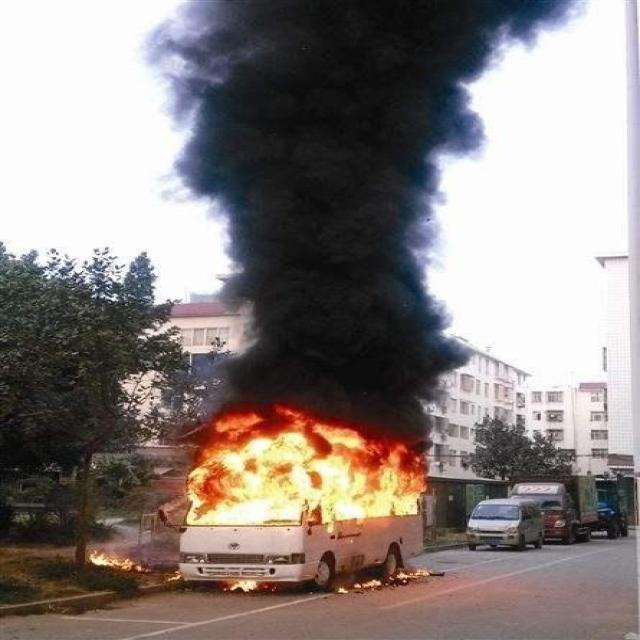Fire: (184, 403, 424, 525), (337, 566, 430, 596), (86, 549, 146, 572), (225, 578, 258, 593)
Smoke: (141, 1, 594, 475)
